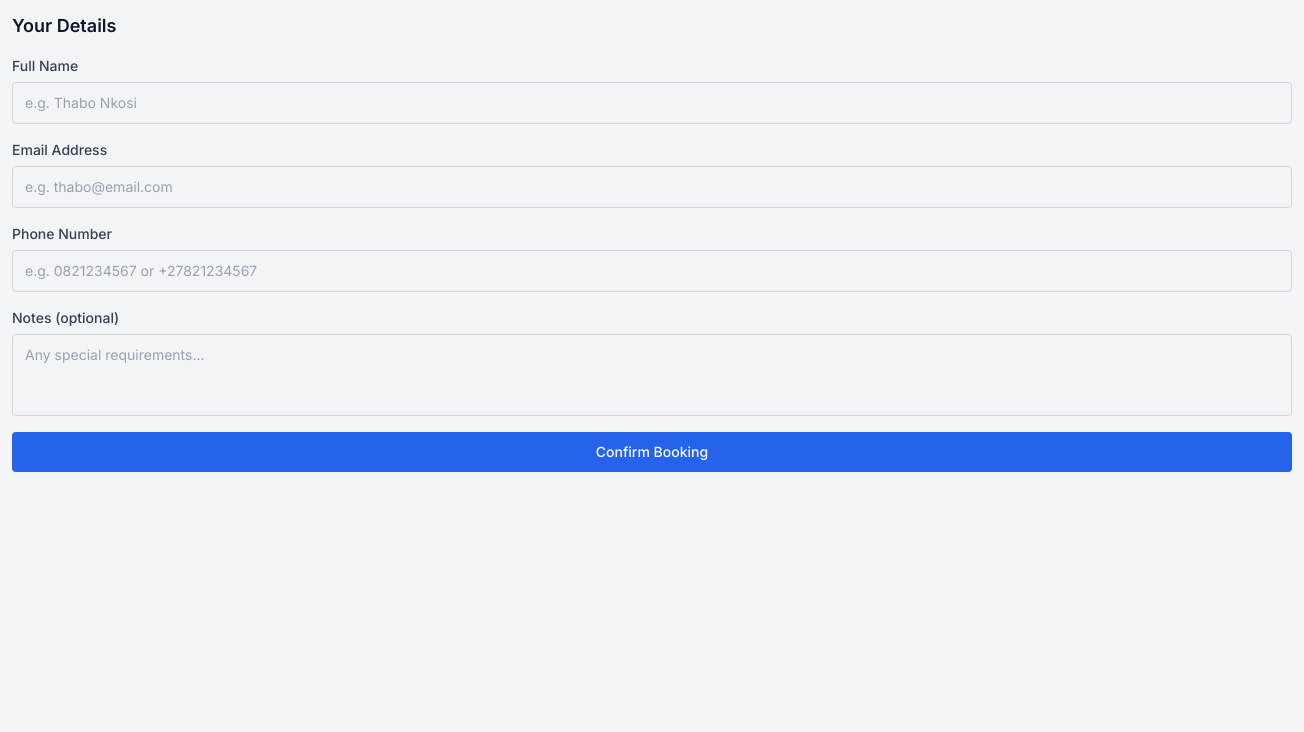
BookingForm › shows validation error for empty name on submit
This screenshot has width=1304, height=732.
Click the button "Confirm Booking" at {"x": 652, "y": 452}, box [12, 432, 1292, 472]
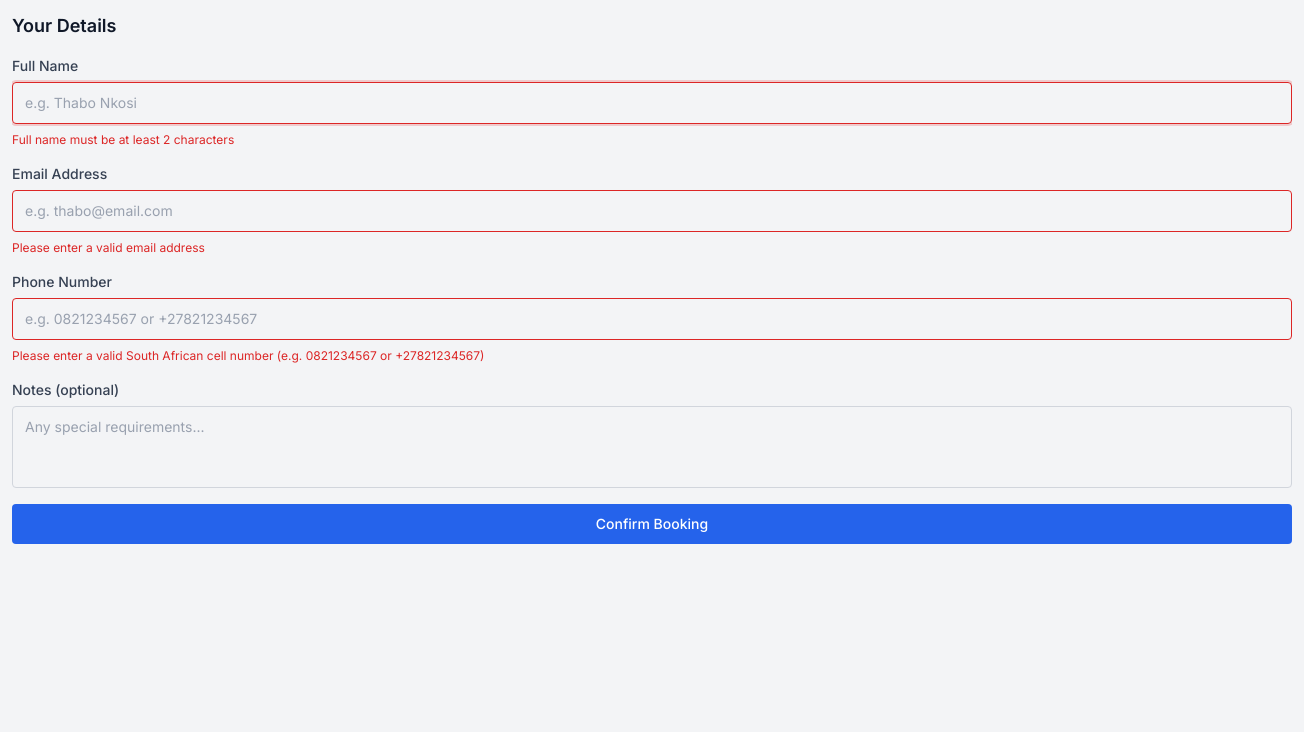
Result: the text "Full name must be at least 2 characters" is shown at [12, 132, 234, 147]
